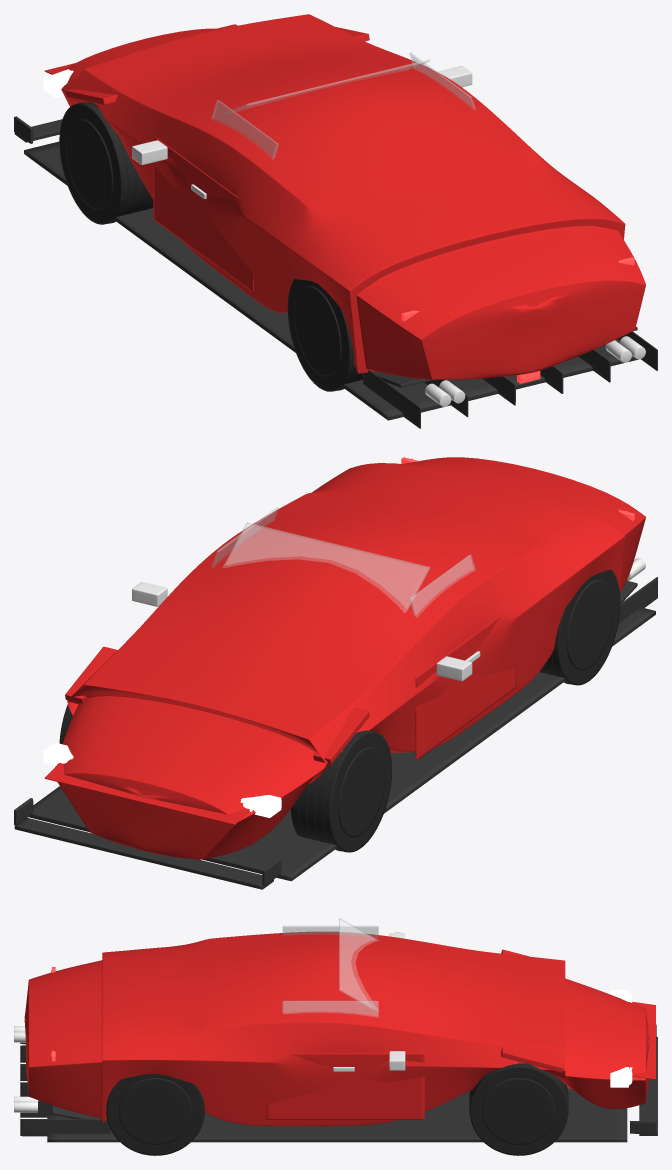
Rendered from Car_Ferrari_F12berlinetta_2010s_Complete.glb.
3 renders of one model, top to bottom at view 1: azimuth 30°, elevation 25°; view 2: azimuth 150°, elevation 25°; view 3: azimuth 270°, elevation 25°, orthographic. The views are drawn at different scales.
Visible parts, largest first — view 1: BODY_MainShell, UNDERBODY_FlatFloor, WHEEL_FL_Tire, WHEEL_RL_Tire, BODY_Door_FL, GLASS_Greenhouse, JEWELRY_F12_QuadExhaust, JEWELRY_Hardware, AERO_FrontSplitter, AERO_F12_AeroBridge; view 2: BODY_MainShell, UNDERBODY_FlatFloor, WHEEL_FL_Tire, GLASS_Greenhouse, WHEEL_RL_Tire, BODY_Door_FL, AERO_FrontSplitter, AERO_F12_AeroBridge, BODY_Hood, JEWELRY_Hardware, LIGHTING_Headlamps; view 3: BODY_MainShell, UNDERBODY_FlatFloor, WHEEL_FR_Tire, BODY_Door_FR, WHEEL_RR_Tire, GLASS_Greenhouse, AERO_FrontSplitter, BODY_Hood, AERO_F12_AeroBridge, LIGHTING_Headlamps, JEWELRY_F12_QuadExhaust, JEWELRY_Hardware.
Boxes of the visible parts, left/top/right/bottom form: BODY_MainShell: left=61, top=14, right=645, bottom=379; UNDERBODY_FlatFloor: left=24, top=141, right=657, bottom=428; WHEEL_FL_Tire: left=59, top=102, right=153, bottom=224; WHEEL_RL_Tire: left=287, top=279, right=362, bottom=391; BODY_Door_FL: left=153, top=136, right=253, bottom=292; GLASS_Greenhouse: left=211, top=52, right=475, bottom=159; JEWELRY_F12_QuadExhaust: left=425, top=336, right=645, bottom=406; JEWELRY_Hardware: left=132, top=66, right=472, bottom=199; AERO_FrontSplitter: left=14, top=116, right=62, bottom=143; AERO_F12_AeroBridge: left=65, top=27, right=369, bottom=104; BODY_MainShell: left=57, top=457, right=645, bottom=859; UNDERBODY_FlatFloor: left=28, top=577, right=657, bottom=881; WHEEL_FL_Tire: left=290, top=730, right=392, bottom=852; GLASS_Greenhouse: left=211, top=507, right=475, bottom=617; WHEEL_RL_Tire: left=540, top=569, right=620, bottom=685; BODY_Door_FL: left=415, top=614, right=516, bottom=760; AERO_FrontSplitter: left=14, top=798, right=281, bottom=889; AERO_F12_AeroBridge: left=65, top=646, right=369, bottom=764; BODY_Hood: left=44, top=763, right=249, bottom=824; JEWELRY_Hardware: left=132, top=582, right=480, bottom=681; LIGHTING_Headlamps: left=43, top=742, right=281, bottom=817; BODY_MainShell: left=24, top=931, right=649, bottom=1125; UNDERBODY_FlatFloor: left=20, top=1042, right=627, bottom=1142; WHEEL_FR_Tire: left=469, top=1063, right=568, bottom=1155; BODY_Door_FR: left=266, top=1053, right=424, bottom=1119; WHEEL_RR_Tire: left=106, top=1073, right=204, bottom=1155; GLASS_Greenhouse: left=282, top=918, right=378, bottom=1017; AERO_FrontSplitter: left=630, top=1024, right=657, bottom=1135; BODY_Hood: left=632, top=1001, right=655, bottom=1079; AERO_F12_AeroBridge: left=501, top=949, right=563, bottom=1072; LIGHTING_Headlamps: left=610, top=990, right=632, bottom=1087; JEWELRY_F12_QuadExhaust: left=14, top=1026, right=37, bottom=1112; JEWELRY_Hardware: left=333, top=932, right=405, bottom=1071.
Size of what is drawn, in the model's own units: 2.28 by 1.24 by 4.82.
